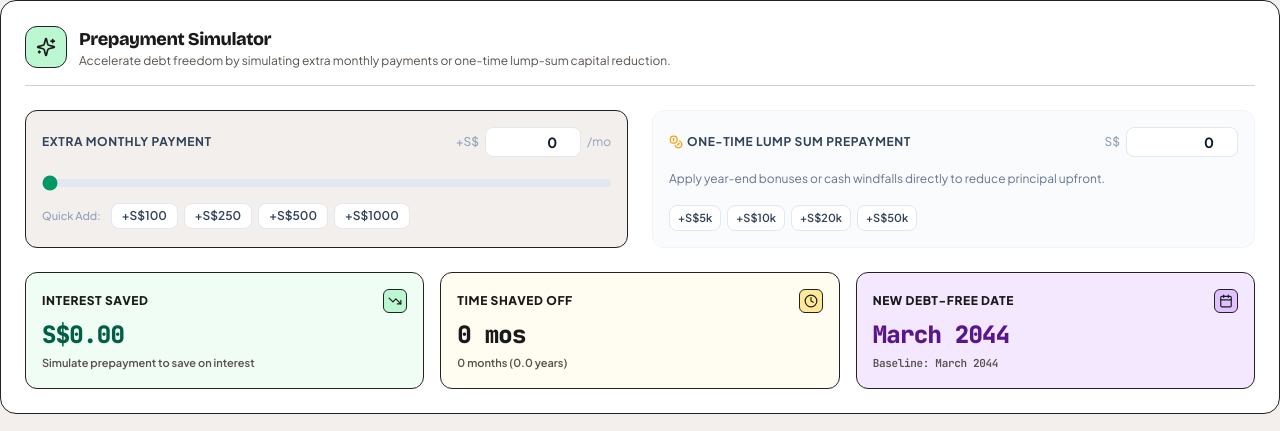
Task 9: Loans & Debt Freedom Engine › PrepaymentSimulator › simulates lump-sum prepayment in addition to monthly prepayment
Replace the text in the number field with test id "lump-sum-input" with "20000" at {"x": 1182, "y": 142}, box [1126,127,1238,157]
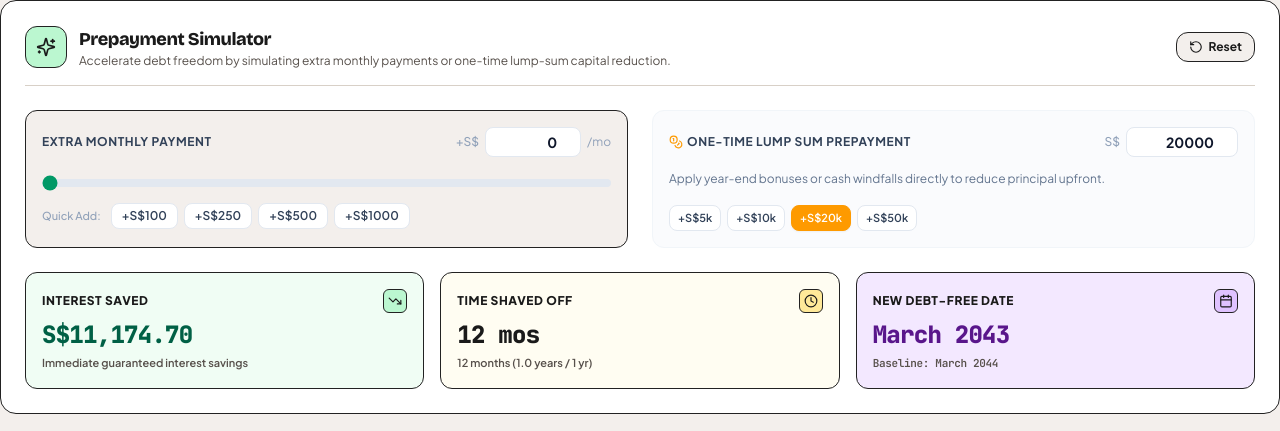
Expected: the text with test id "interest-saved" no longer shows "S$0.00"
